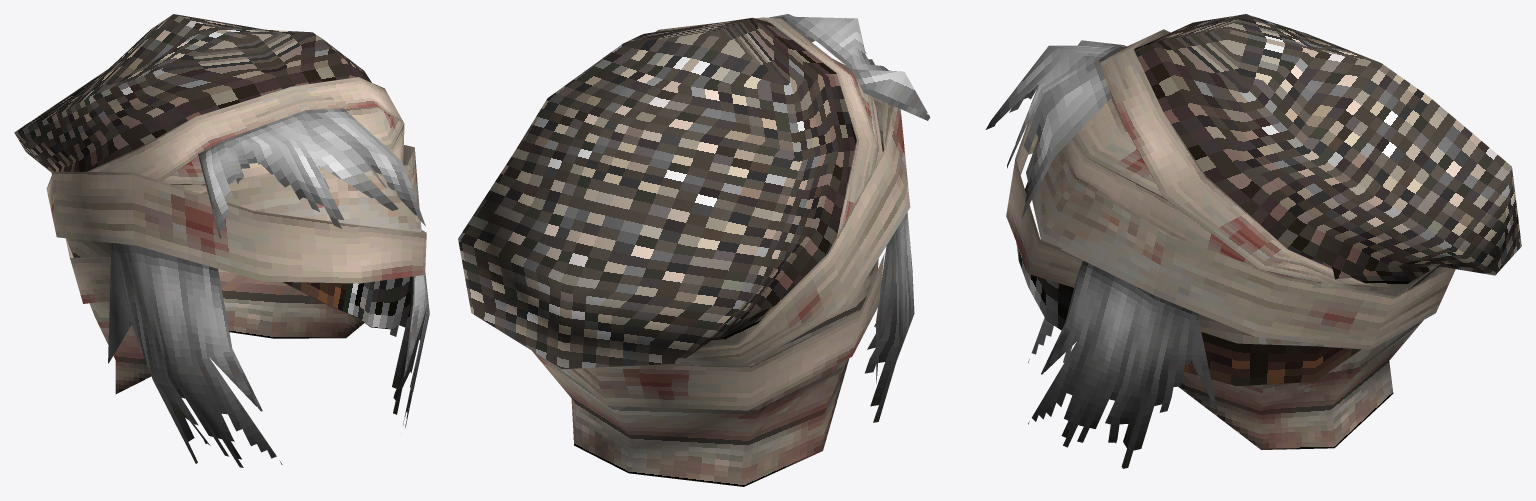
File: f_helmet026.obj
The picture shows the model from 3 angles, left to right: view 1: azimuth 30°, elevation 25°; view 2: azimuth 150°, elevation 25°; view 3: azimuth 270°, elevation 25°; orthographic projection. The views are drawn at different scales.
Visible parts, largest first — view 1: mesh00, mesh05, mesh02, mesh04, mesh01, mesh03; view 2: mesh02, mesh05, mesh01, mesh00, mesh04; view 3: mesh02, mesh05, mesh00, mesh04, mesh01, mesh03.
Part boxes in pixels (box(x1,y1,x2,y2)): mesh00: box(108, 108, 429, 467); mesh05: box(46, 145, 426, 303); mesh02: box(14, 14, 371, 173); mesh04: box(87, 77, 404, 193); mesh01: box(66, 238, 364, 393); mesh03: box(283, 276, 411, 329); mesh02: box(458, 17, 856, 369); mesh05: box(564, 58, 910, 410); mesh01: box(532, 259, 878, 486); mesh00: box(769, 14, 930, 422); mesh04: box(655, 17, 882, 315); mesh02: box(1134, 14, 1521, 282); mesh05: box(1006, 120, 1455, 349); mesh00: box(985, 40, 1217, 468); mesh04: box(1063, 29, 1389, 288); mesh01: box(1178, 266, 1447, 449); mesh03: box(1016, 182, 1361, 385).
Size of the model in its own units: 21.88 by 26.12 by 32.35.
Materials: 6 (6 with a texture image).
